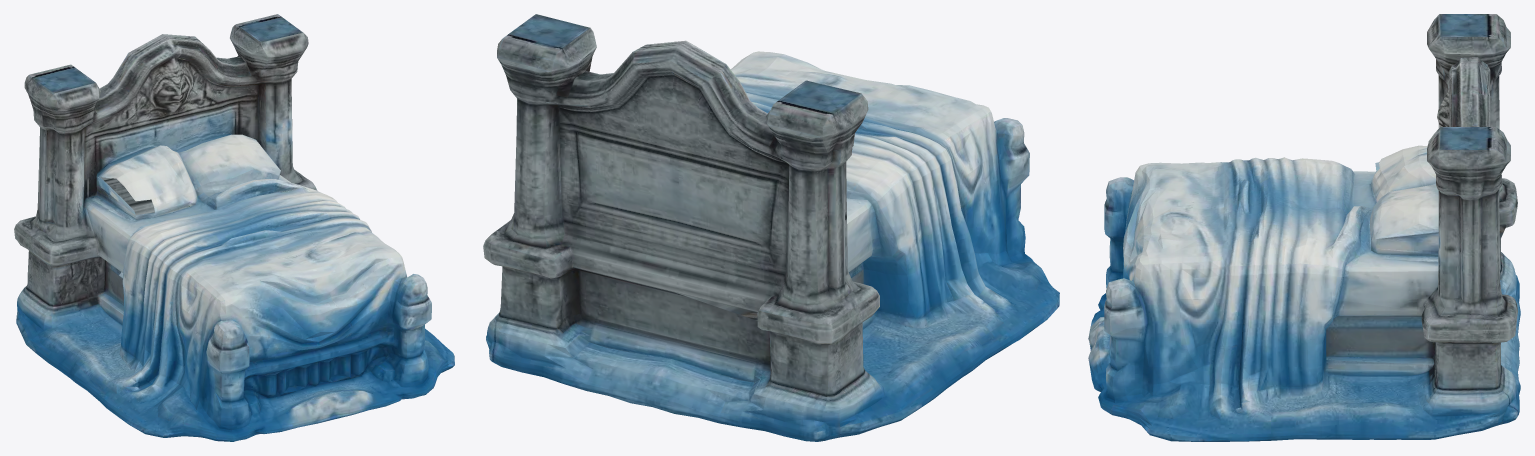
Rendered from bed_ice.glb.
3 renders of one model, left to right at view 1: azimuth 30°, elevation 25°; view 2: azimuth 150°, elevation 25°; view 3: azimuth 270°, elevation 25°, orthographic. The views are drawn at different scales.
Size of the model in its own units: 1.8 by 1.42 by 1.9.
1 material, 1 textured.
